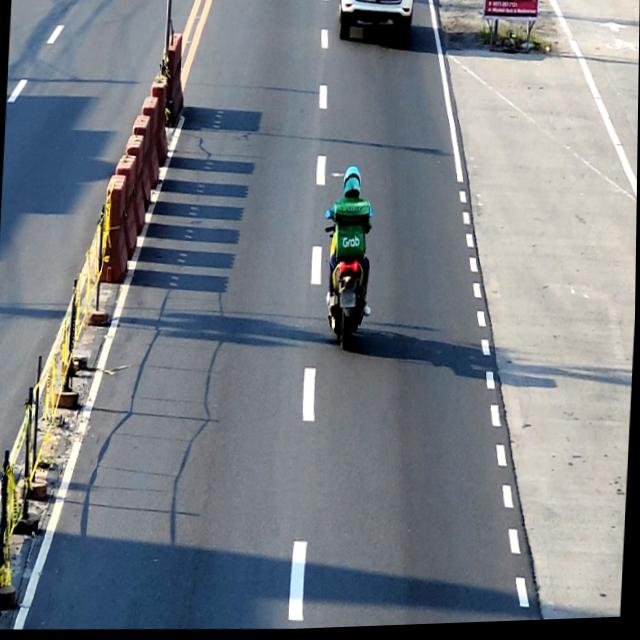Car: (336, 0, 413, 45)
License-Plate: (340, 296, 356, 311)
Motorcycle: (319, 207, 373, 355)
